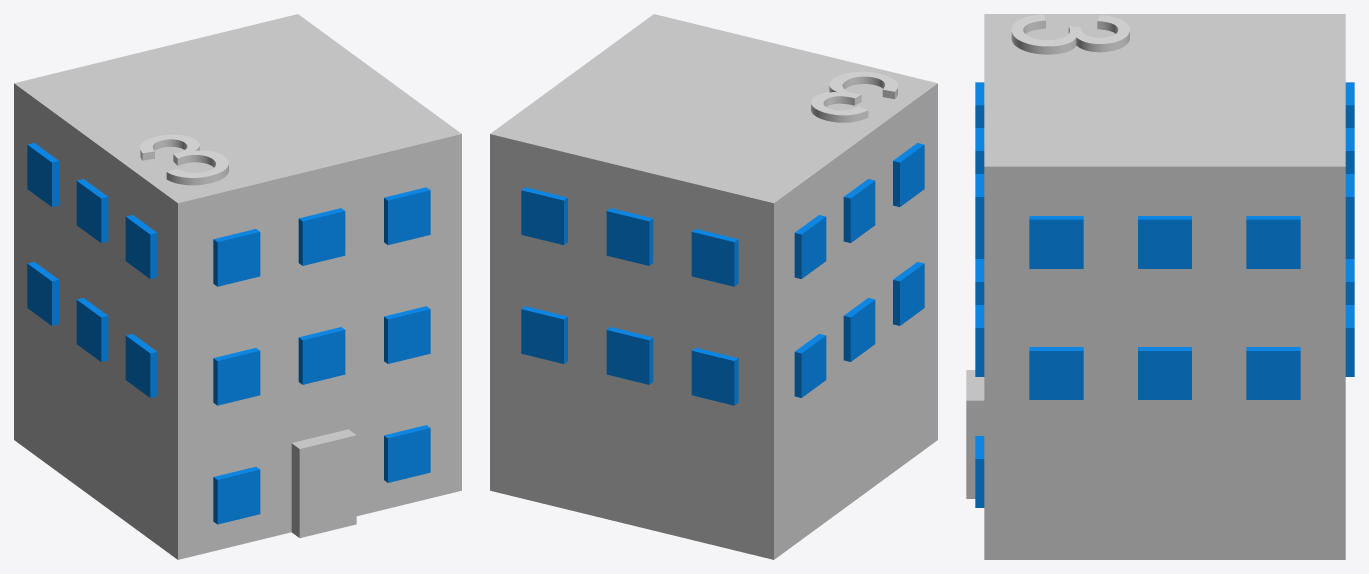
3 renders of one model, left to right at view 1: azimuth 30°, elevation 25°; view 2: azimuth 150°, elevation 25°; view 3: azimuth 270°, elevation 25°, orthographic. The views are drawn at different scales.
Visible parts, largest first — view 1: house, window, 3; view 2: house, window, 3; view 3: house, window, 3.
Boxes of the visible parts, x1,y1,x2,y2 form: house: (14, 14, 461, 559); window: (27, 143, 430, 524); 3: (140, 134, 228, 185); house: (490, 14, 937, 559); window: (521, 143, 924, 405); 3: (811, 71, 897, 122); house: (966, 14, 1345, 559); window: (975, 82, 1354, 507); 3: (1011, 14, 1129, 54).
Size of the model in its own units: 10.5 by 12.25 by 10.75.
